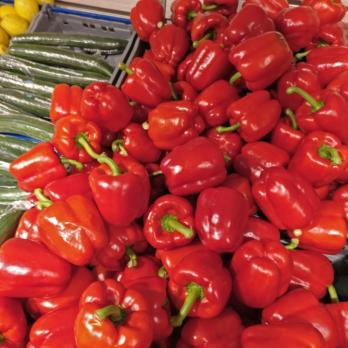Capsicum: (164, 2, 348, 348), (48, 81, 164, 348), (9, 146, 59, 348), (127, 0, 179, 90)
